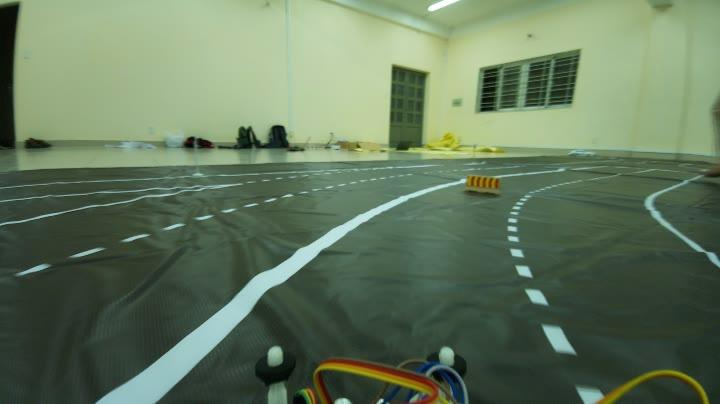roadblock: (458, 168, 512, 199)
